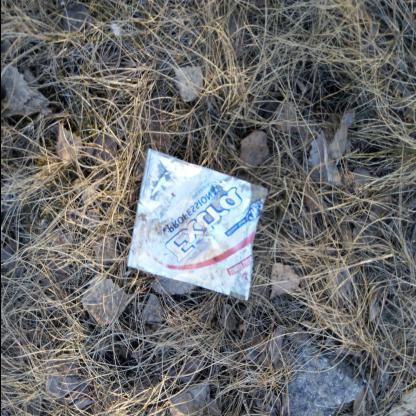diger: (126, 148, 268, 305)
